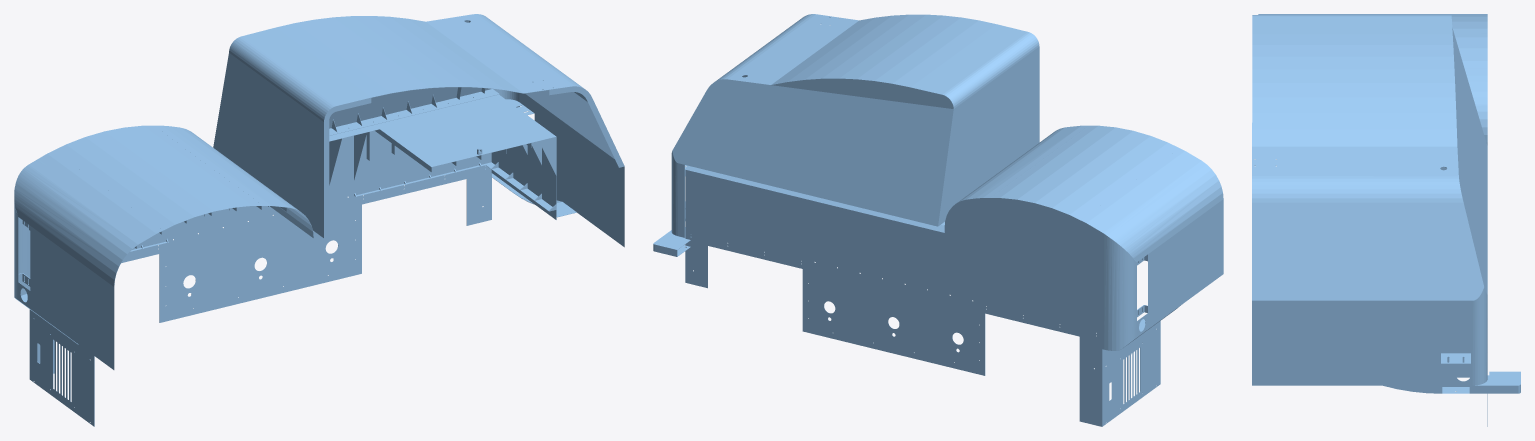
The model's file is base_left_cover.dae.
3 views of the same model, side by side, from view 1: azimuth 30°, elevation 25°; view 2: azimuth 150°, elevation 25°; view 3: azimuth 270°, elevation 25° (orthographic). The views are drawn at different scales.
Visible parts, largest first — view 1: UMS5_Cover_left; view 2: UMS5_Cover_left; view 3: UMS5_Cover_left.
Part boxes in pixels (box(x1,y1,x2,y2)): UMS5_Cover_left: box(14, 14, 624, 426); UMS5_Cover_left: box(653, 14, 1223, 426); UMS5_Cover_left: box(1252, 14, 1520, 426).
Size of the model in its own units: 2.03 by 0.89 by 1.18.
